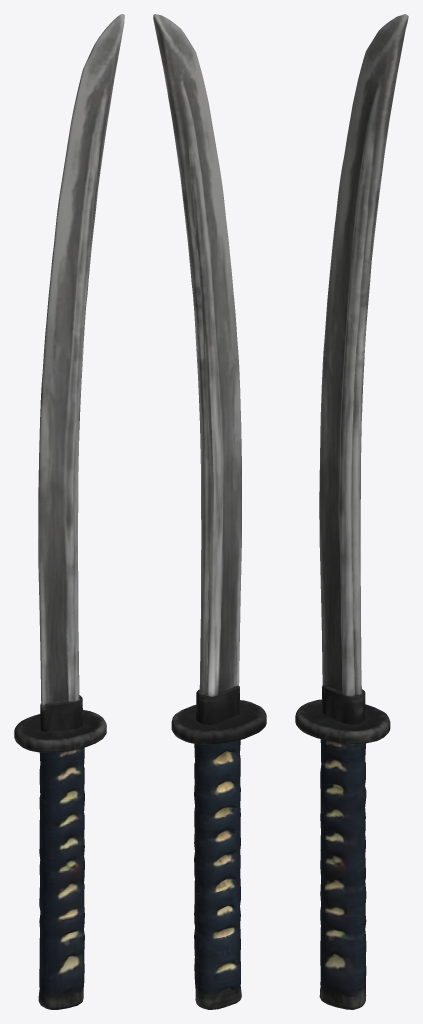
3 views of the same model, side by side, from view 1: azimuth 30°, elevation 25°; view 2: azimuth 210°, elevation 25°; view 3: azimuth 330°, elevation 25° (orthographic). The views are drawn at different scales.
Parts seen in each view (by area): view 1: kunoichi-katana; view 2: kunoichi-katana; view 3: kunoichi-katana.
Boxes of the visible parts, <box> form: kunoichi-katana: <box>14,14,124,1009</box>; kunoichi-katana: <box>153,14,266,1009</box>; kunoichi-katana: <box>295,14,408,1009</box>.
Bounding box in the file's own units: 0.1183 × 1.05 × 0.0716.
Materials: 1 (1 with a texture image).
